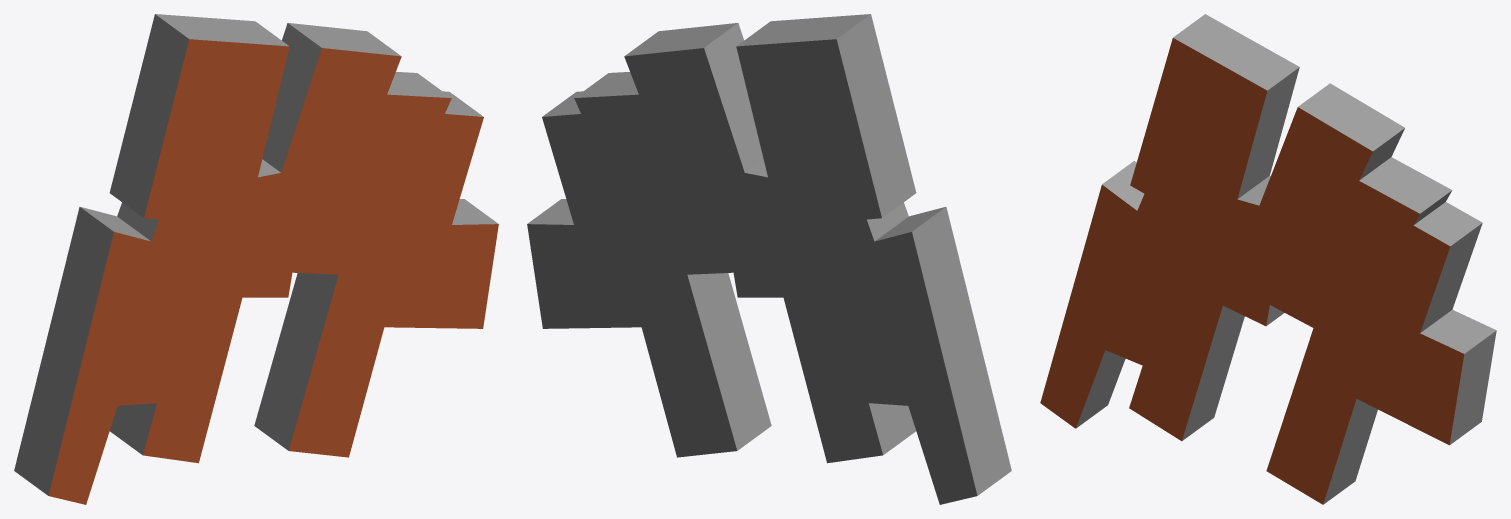
The model's file is construction_2527_assumed_A_Casa_h6m.obj.
The picture shows the model from 3 angles, left to right: view 1: azimuth 30°, elevation 25°; view 2: azimuth 150°, elevation 25°; view 3: azimuth 330°, elevation 25°; orthographic projection. The views are drawn at different scales.
Parts seen in each view (by area): view 1: construction_2527_assumed_A_Casa; view 2: construction_2527_assumed_A_Casa; view 3: construction_2527_assumed_A_Casa.
Part boxes in pixels (x1=…): construction_2527_assumed_A_Casa: x1=14, y1=14, x2=498, y2=504; construction_2527_assumed_A_Casa: x1=527, y1=14, x2=1011, y2=504; construction_2527_assumed_A_Casa: x1=1040, y1=14, x2=1496, y2=504.
Bounding box in the file's own units: 45.38 × 44.03 × 6.
